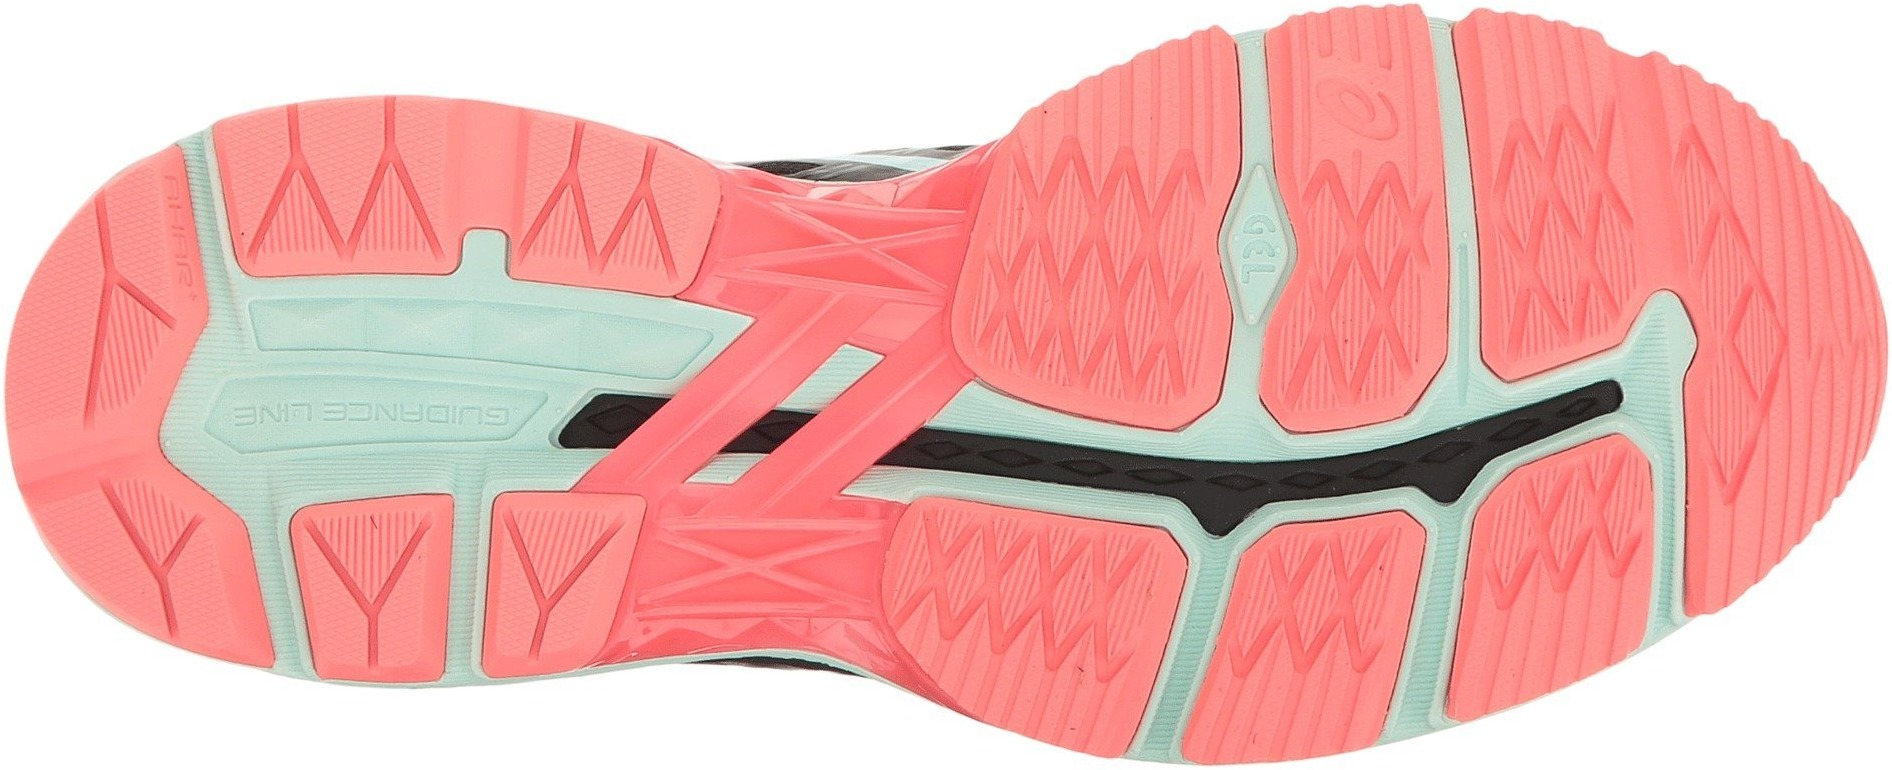quad: (1009, 152, 1228, 380), (1501, 119, 1713, 308), (1286, 202, 1436, 364), (967, 535, 1091, 682)
text: (243, 360, 361, 476)
